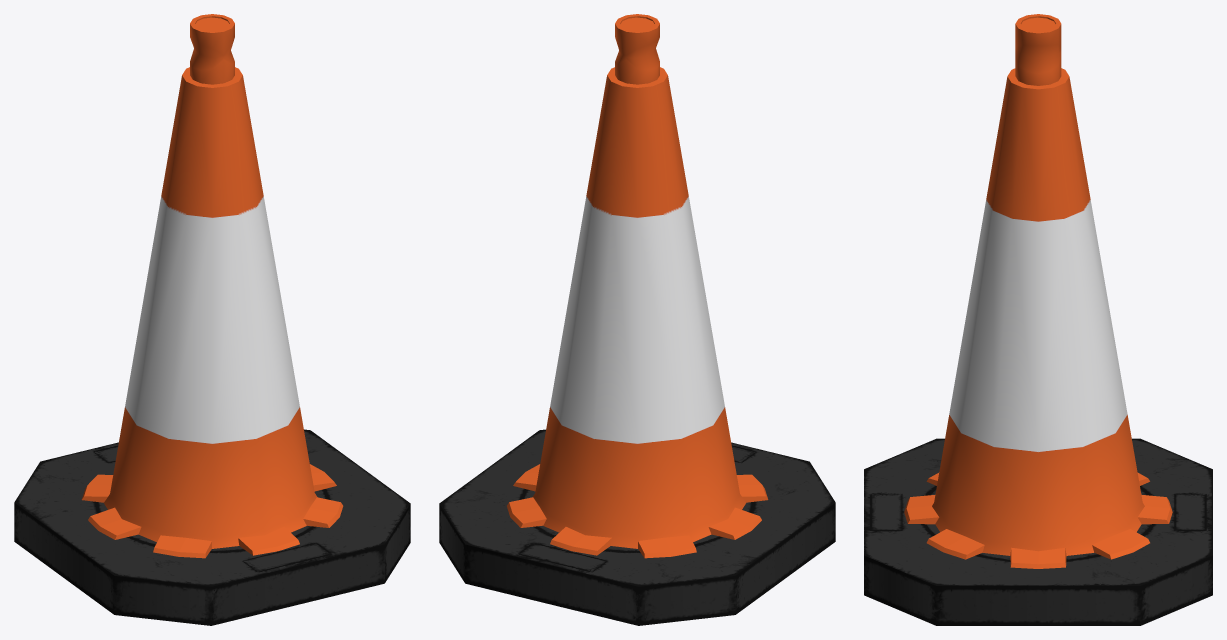
3 views of the same model, side by side, from view 1: azimuth 30°, elevation 25°; view 2: azimuth 150°, elevation 25°; view 3: azimuth 270°, elevation 25° (orthographic).
Parts seen in each view (by area): view 1: Traffic Cone; view 2: Traffic Cone; view 3: Traffic Cone.
Part boxes in pixels (x1,y1,x2,y2): Traffic Cone: (14, 14, 410, 625); Traffic Cone: (439, 14, 835, 625); Traffic Cone: (864, 14, 1212, 625).
Bounding box in the file's own units: 47.46 × 79.38 × 47.46.
1 material, 1 textured.
